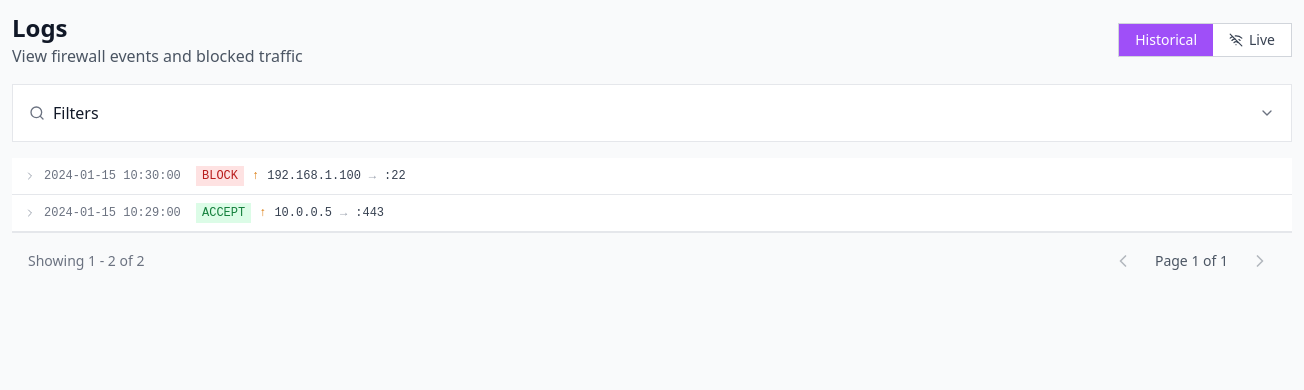
Test case: Logs Page › Filter Controls › Clear button resets filters
The image size is (1304, 390).
Expected: the heading "Logs" is shown, top-left (12, 11), bottom-right (68, 44)
Note: Expand the filter panel
Click the button "Filters" at (76, 113), box top-left (13, 85), bottom-right (1291, 141)
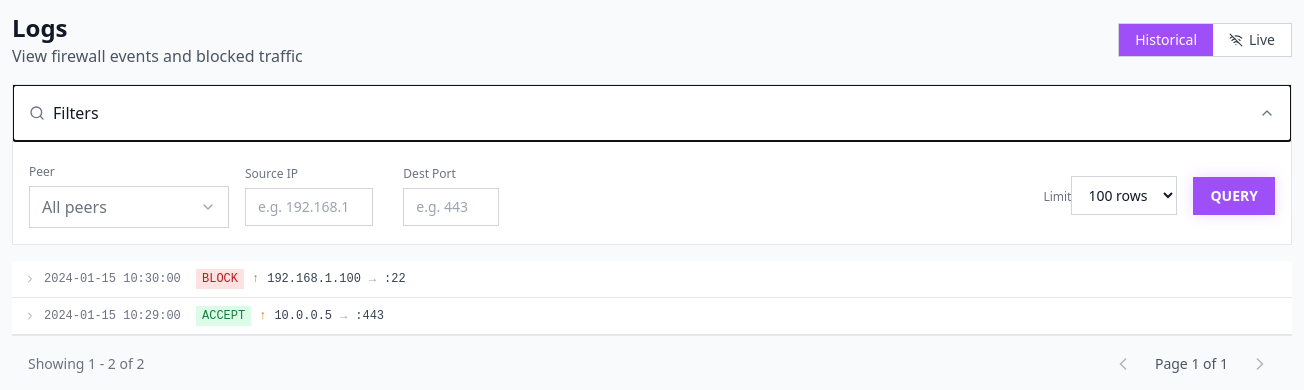
Expected: the field with placeholder "e.g. 192.168.1" is shown
Note: Type in source IP
Type "192.168" into the field with placeholder "e.g. 192.168.1" at (309, 207), box top-left (245, 188), bottom-right (373, 226)
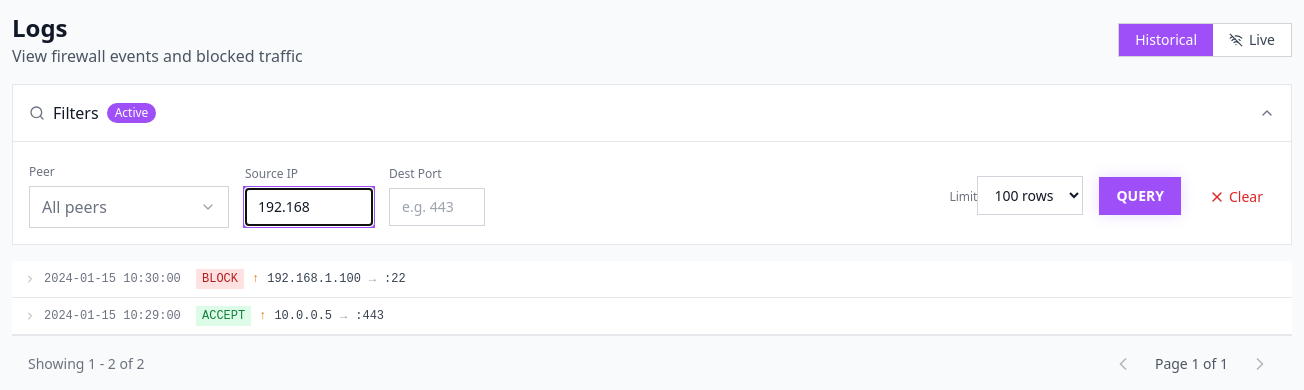
Expected: the button "Clear" is shown
Click the button "Clear" at (1236, 196), box top-left (1197, 178), bottom-right (1275, 214)
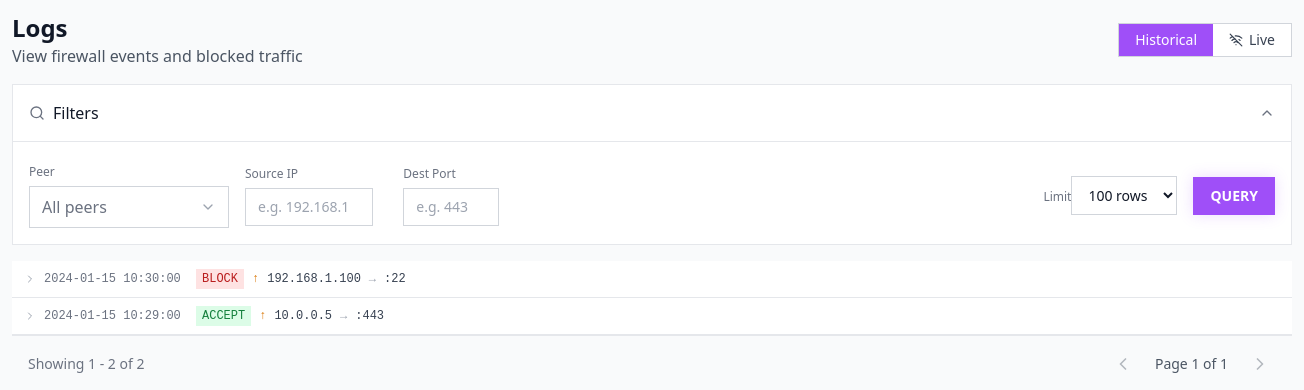
Expected: the field with placeholder "e.g. 192.168.1" is empty, top-left (245, 188), bottom-right (373, 226)
